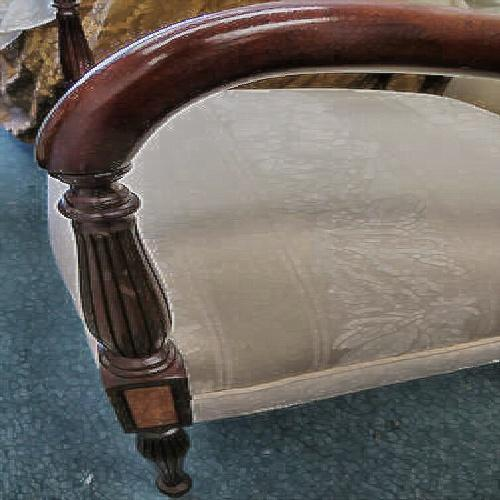chair: (51, 39, 500, 412)
